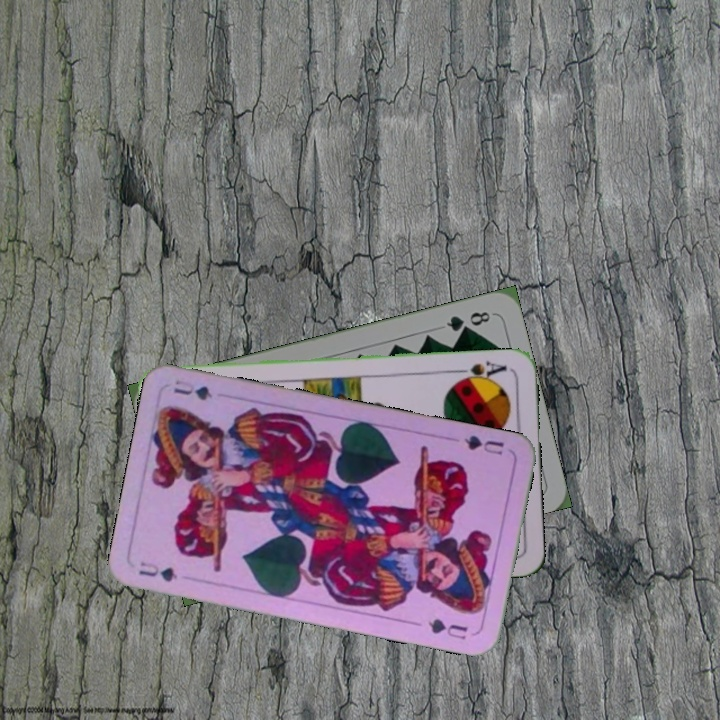G8: (442, 307, 493, 335)
GU: (460, 431, 507, 458), (135, 557, 180, 585)
SA: (452, 356, 509, 385)
